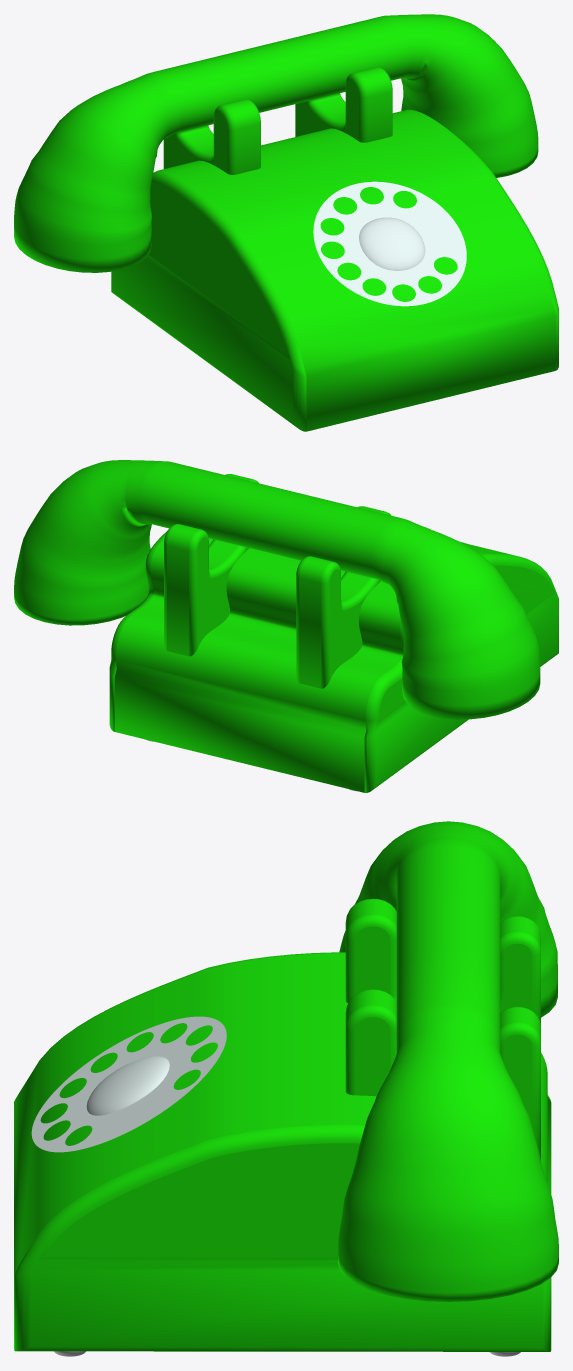
File: telephoneGreen.fbx
3 renders of one model, top to bottom at view 1: azimuth 30°, elevation 25°; view 2: azimuth 150°, elevation 25°; view 3: azimuth 270°, elevation 25°, orthographic. The views are drawn at different scales.
Parts seen in each view (by area): view 1: Body, Phone, Numbers; view 2: Body, Phone; view 3: Body, Phone, Numbers.
Part boxes in pixels (x1=…): Body: x1=111, y1=67, x2=558, y2=431; Phone: x1=14, y1=14, x2=538, y2=272; Numbers: x1=313, y1=181, x2=466, y2=306; Body: x1=109, y1=474, x2=558, y2=792; Phone: x1=14, y1=460, x2=540, y2=719; Body: x1=14, y1=898, x2=551, y2=1351; Phone: x1=338, y1=821, x2=558, y2=1301; Numbers: x1=31, y1=1016, x2=226, y2=1152.
Size of the model in its own units: 327 by 158 by 219.
